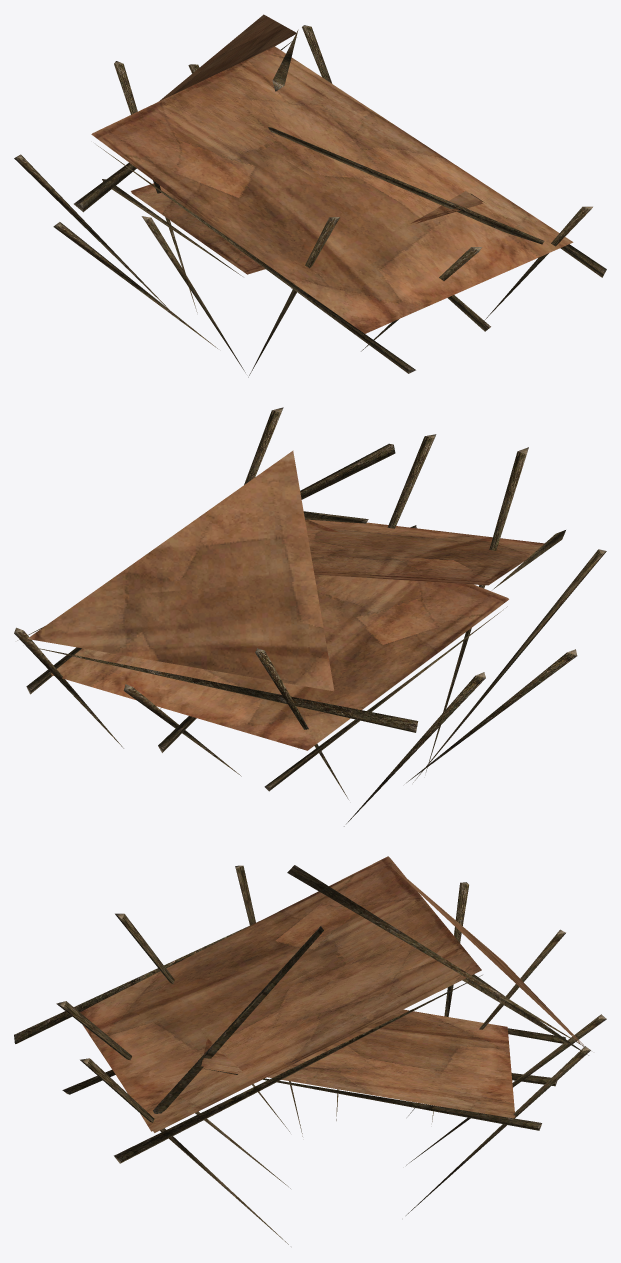
File: poi_all_lair_wooden_destroyed_l3.fbx
The picture shows the model from 3 angles, top to bottom: view 1: azimuth 30°, elevation 25°; view 2: azimuth 150°, elevation 25°; view 3: azimuth 270°, elevation 25°; orthographic projection. The views are drawn at different scales.
Parts seen in each view (by area): view 1: mesh_node; view 2: mesh_node; view 3: mesh_node.
Boxes of the visible parts, x1,y1,x2,y2 form: mesh_node: [14, 14, 606, 377]; mesh_node: [14, 407, 606, 826]; mesh_node: [14, 856, 606, 1244].
Size of the model in its own units: 8.49 by 5.85 by 10.26.
